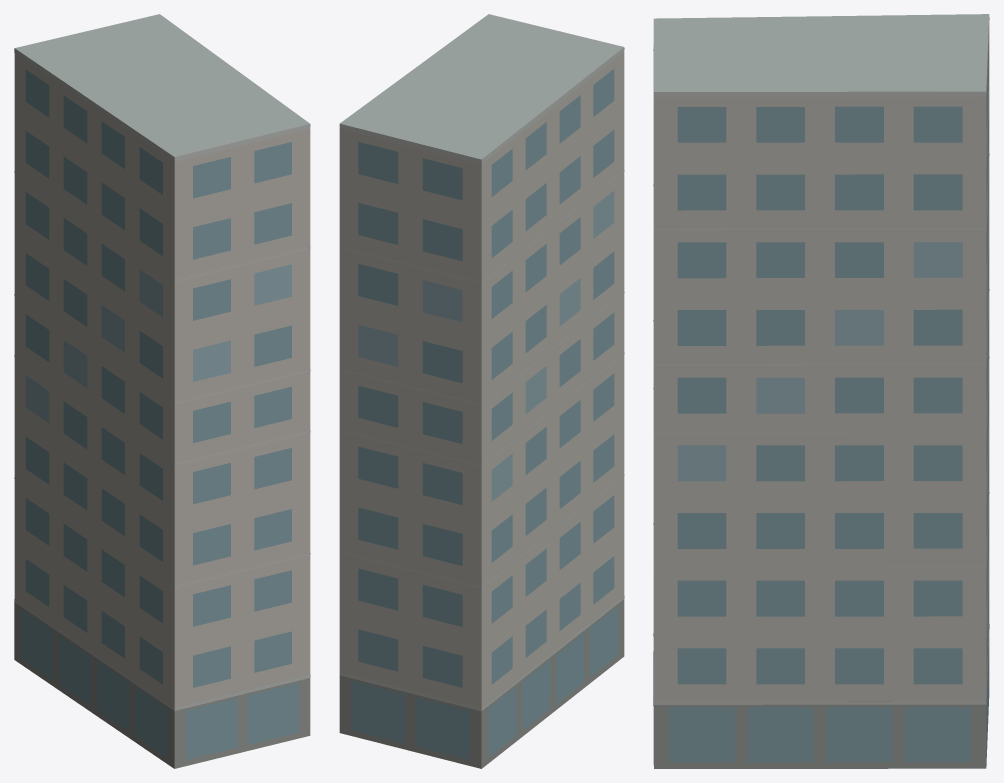
Rendered from survey-upis-33014516.glb.
3 renders of one model, left to right at view 1: azimuth 30°, elevation 25°; view 2: azimuth 150°, elevation 25°; view 3: azimuth 270°, elevation 25°, orthographic. The views are drawn at different scales.
Visible parts, largest first — view 1: survey-upis-33014516.tmp; view 2: survey-upis-33014516.tmp; view 3: survey-upis-33014516.tmp.
Part boxes in pixels (x1,y1,x2,y2): survey-upis-33014516.tmp: (14, 14, 310, 768); survey-upis-33014516.tmp: (339, 14, 624, 768); survey-upis-33014516.tmp: (653, 14, 989, 768).
Size of the model in its own units: 7.51 by 30.3 by 13.64.
